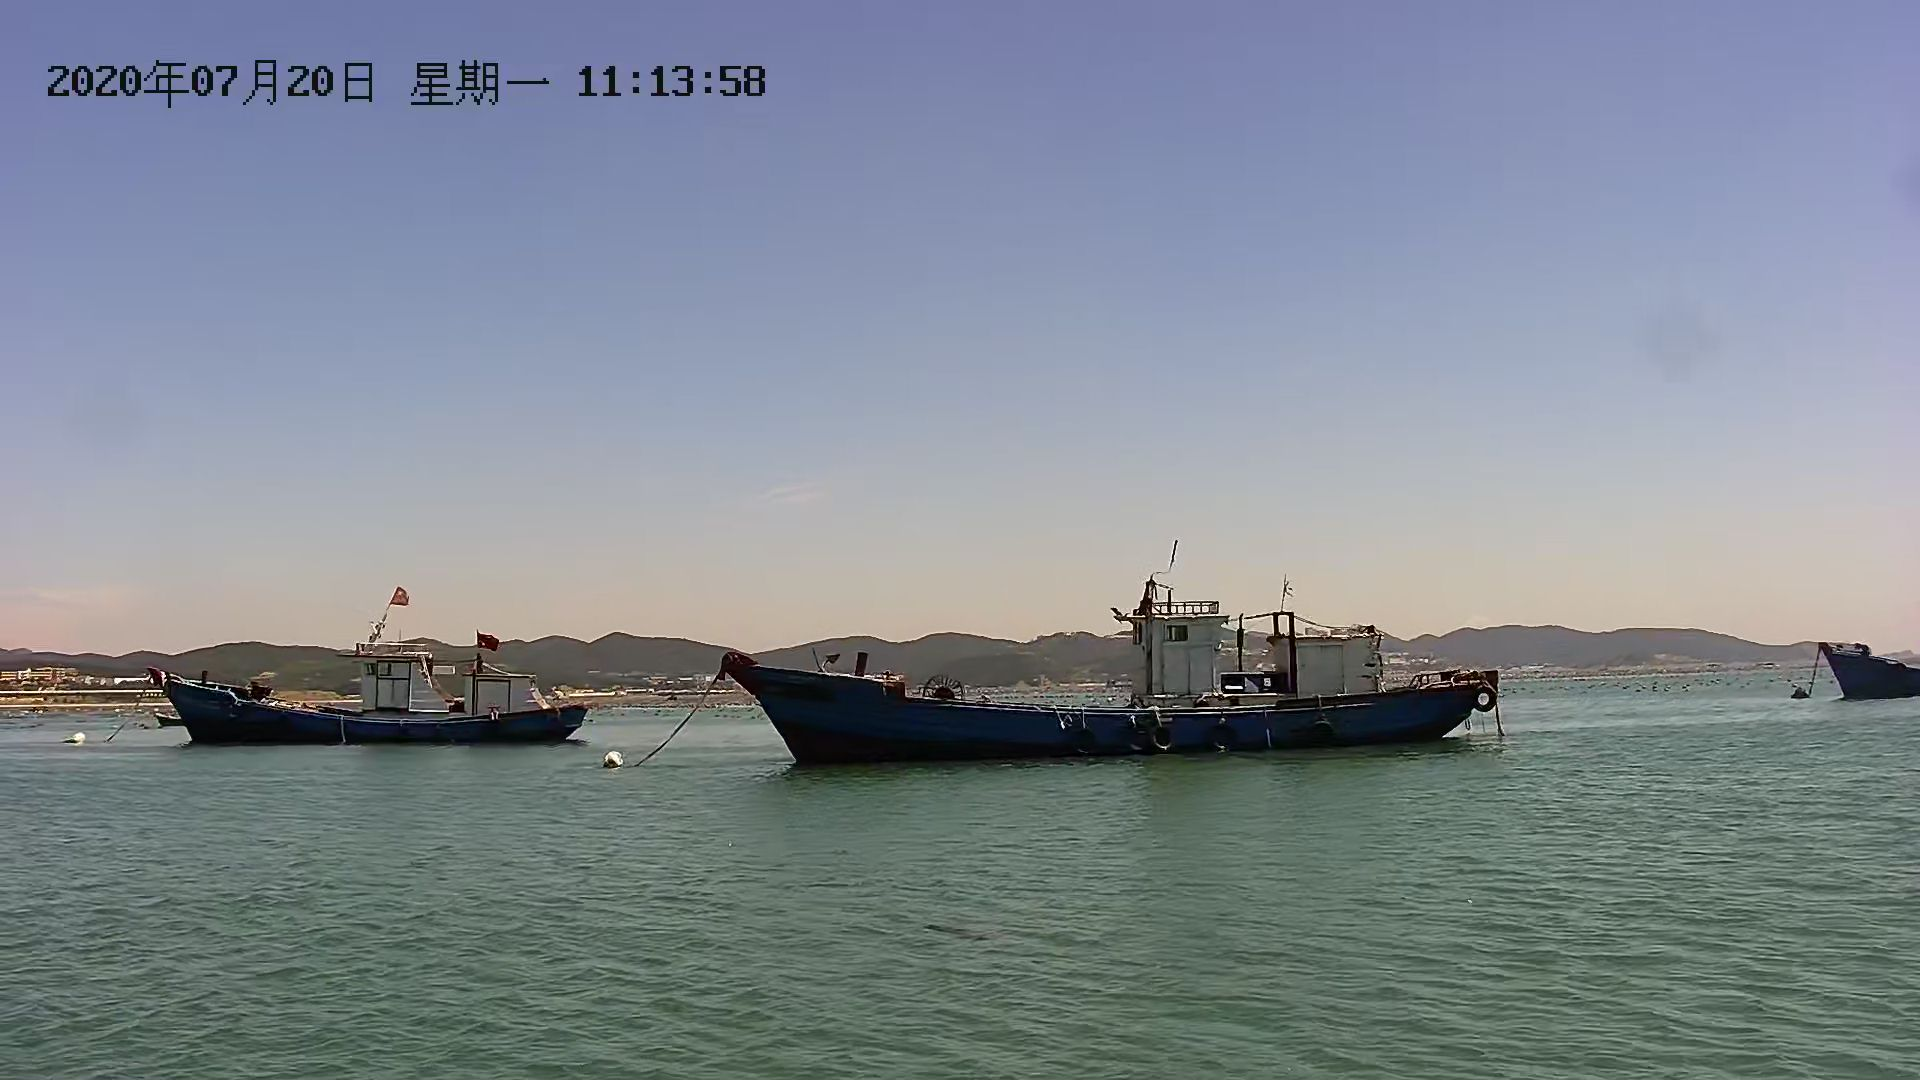ball: (65, 727, 100, 754), (593, 746, 640, 767)
boat: (711, 644, 1519, 760), (160, 636, 604, 746), (1792, 632, 1920, 700)
